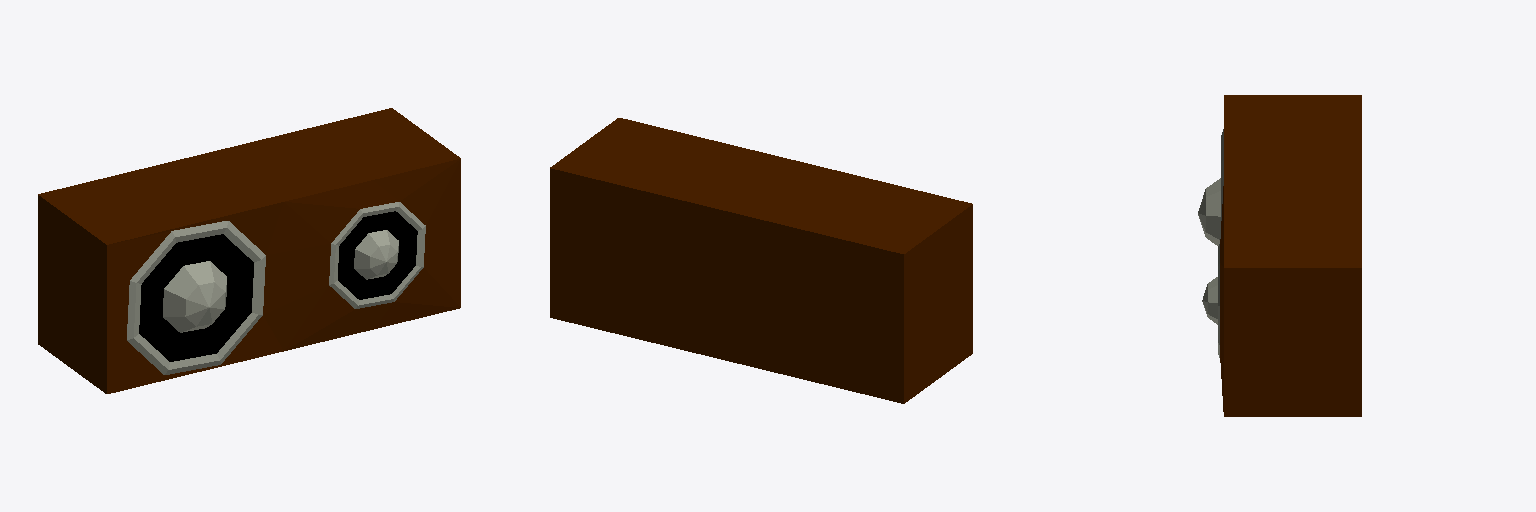
Rendered from speaker1.obj.
The picture shows the model from 3 angles: view 1: azimuth 30°, elevation 25°; view 2: azimuth 150°, elevation 25°; view 3: azimuth 270°, elevation 25°; orthographic projection.
Visible parts, largest first — view 1: Speaker1_Cube.009; view 2: Speaker1_Cube.009; view 3: Speaker1_Cube.009.
Boxes of the visible parts, <box> form: Speaker1_Cube.009: <box>38,108,460,393</box>; Speaker1_Cube.009: <box>550,118,972,403</box>; Speaker1_Cube.009: <box>1198,95,1361,416</box>.
Size of the model in its own units: 9.79 by 3.95 by 3.94.